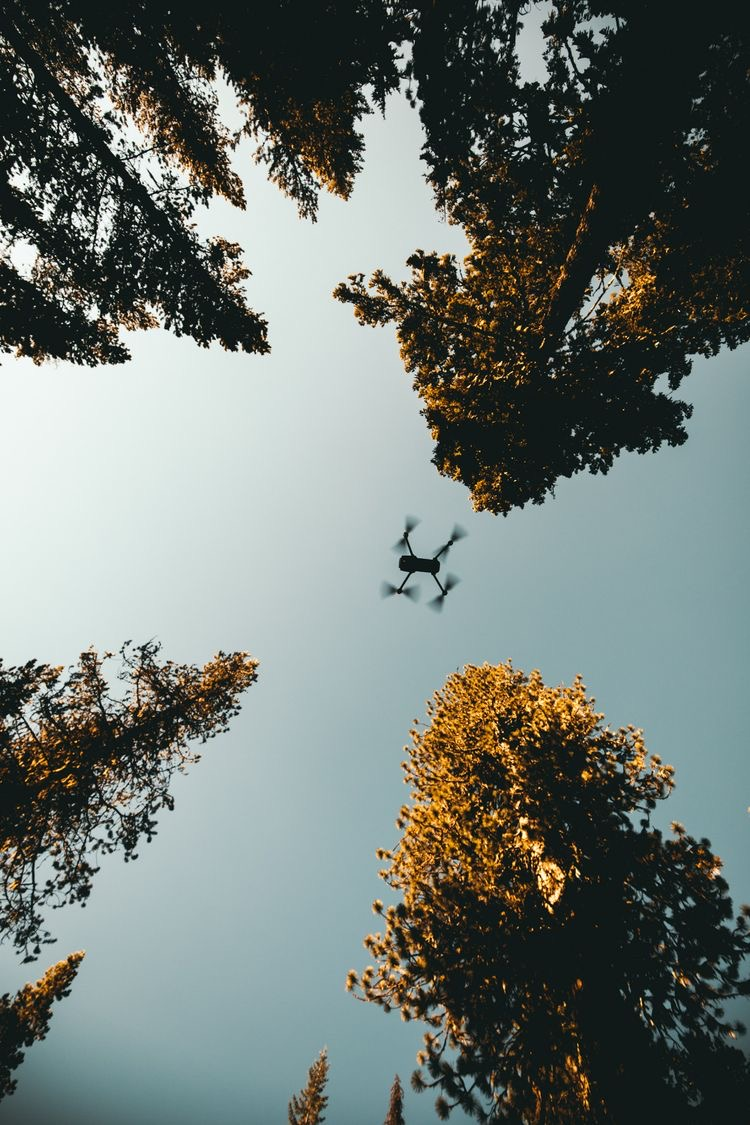drone_other: (384, 512, 465, 615)
